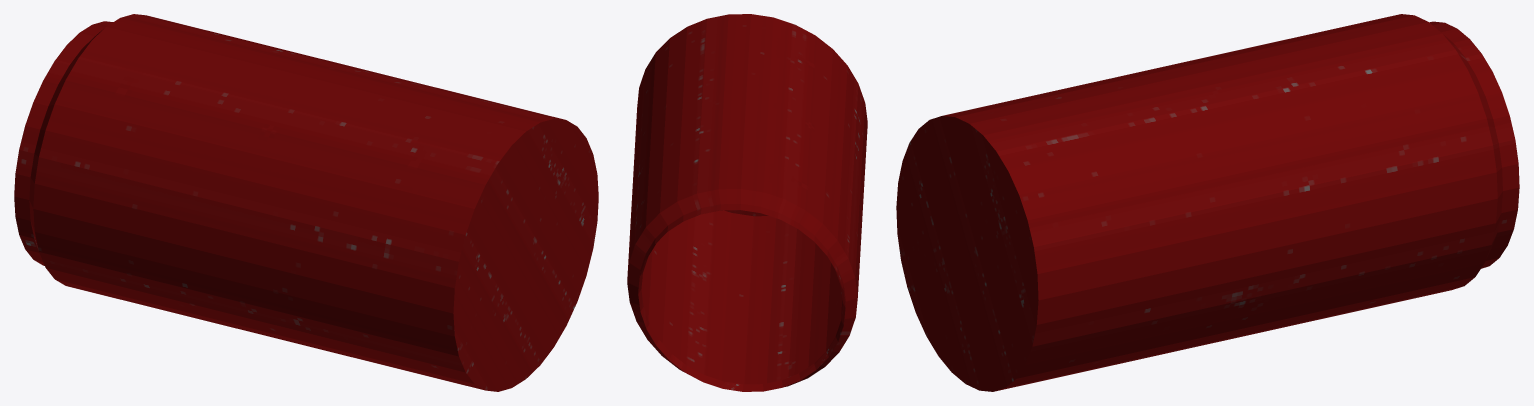
The model's file is barrel.glb.
The picture shows the model from 3 angles, left to right: view 1: azimuth 30°, elevation 25°; view 2: azimuth 150°, elevation 25°; view 3: azimuth 270°, elevation 25°; orthographic projection. The views are drawn at different scales.
Visible parts, largest first — view 1: Cylinder.002; view 2: Cylinder.002; view 3: Cylinder.002.
Boxes of the visible parts, left/top/right/bottom form: Cylinder.002: left=14, top=14, right=598, bottom=391; Cylinder.002: left=627, top=14, right=867, bottom=391; Cylinder.002: left=896, top=14, right=1519, bottom=391.
Bounding box in the file's own units: 1.79 × 1.02 × 2.17.
Materials: 1 (1 with a texture image).
